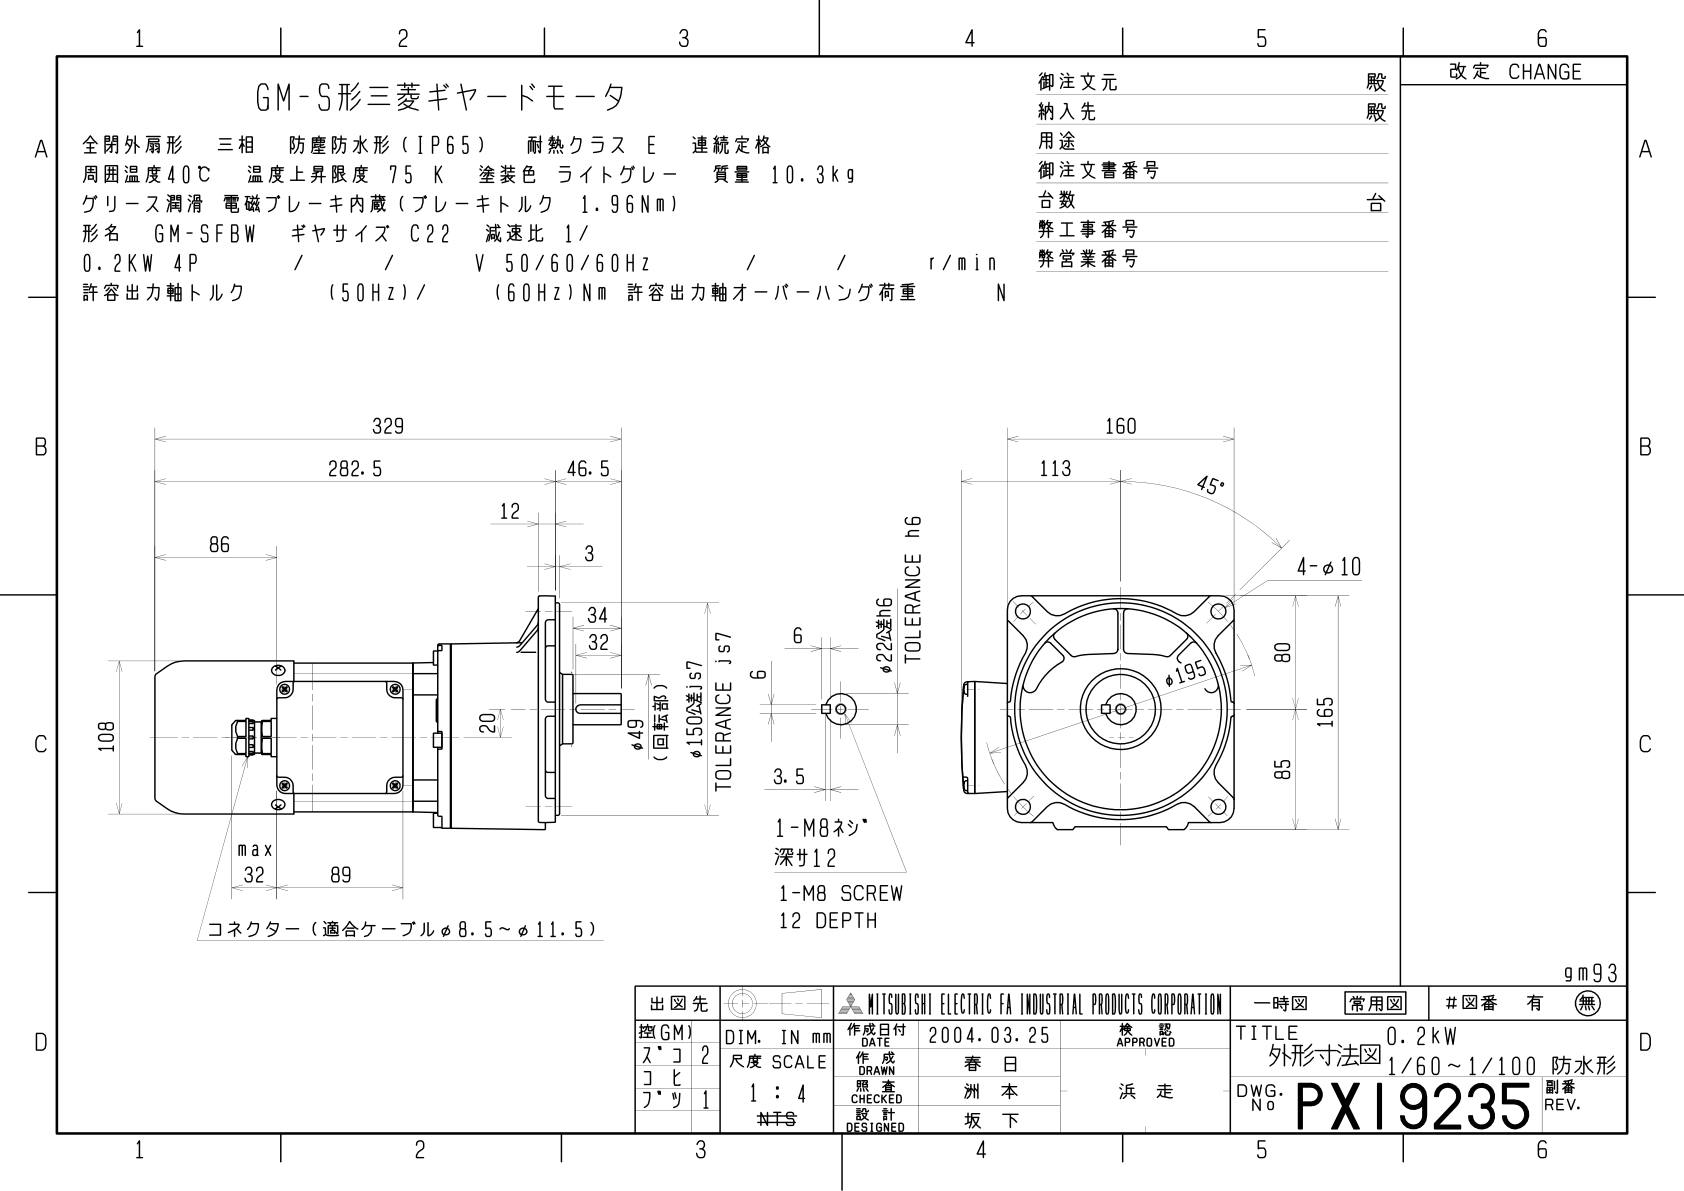GM_S_IP65＿三相_フランジ: (85, 349, 1413, 967)
